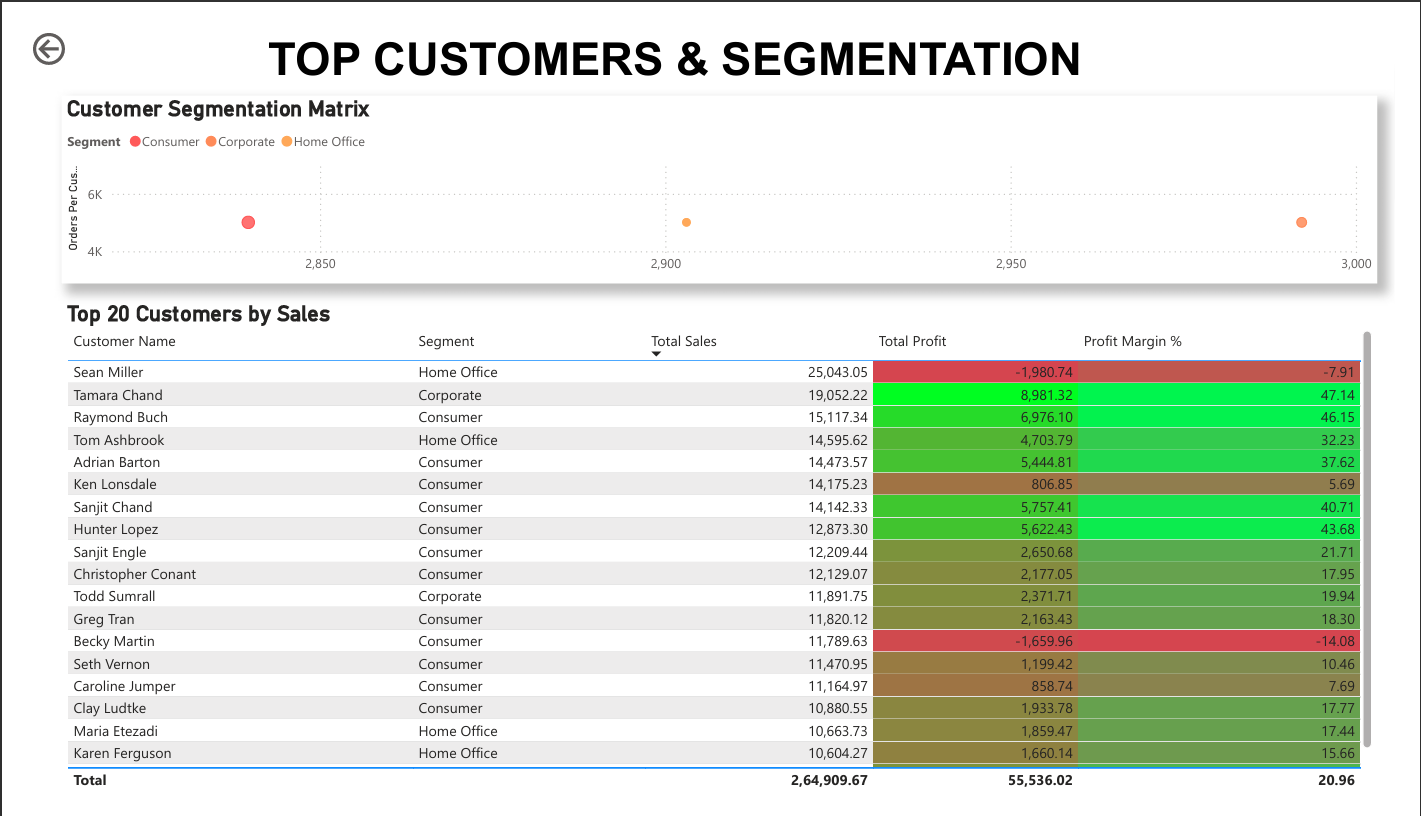

What the dashboard file says about the page in this screenshot:
{"tool":"powerbi","page":{"name":"TOP CUSTOMERS & SEGMENTATION","canvas":[1280,720],"ordinal":6},"visuals":[{"type":"textbox","box":[16,0,1264,64],"z":0},{"type":"tableEx","title":"Top 20 Customers by Sales","fields":{"Values":["Orders.Customer Name","Orders.Segment","Orders.Total Sales","Orders.Total Profit","Orders.Profit Margin %"]},"box":[0,128,1248,320],"z":1},{"type":"actionButton","box":[0,0,100,40],"z":2},{"type":"scatterChart","title":"Customer Segmentation Matrix","fields":{"X":["Orders.Avg Customer Value"],"Y":["Orders.Orders Per Customer"],"Size":["Orders.Total Sales"],"Series":["Orders.Segment"]},"box":[16,464,448,240],"z":3}]}

Visuals, with their boxes in screenshot pixels (x1, y1, x2, y2), scaled from the page's 1280x720 canvas onto the 1421x816 screenshot:
textbox: bbox(18, 0, 1420, 73)
"Top 20 Customers by Sales" tableEx: bbox(0, 145, 1385, 508)
actionButton: bbox(0, 0, 111, 45)
"Customer Segmentation Matrix" scatterChart: bbox(18, 526, 515, 798)
